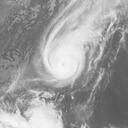cyclone: (37, 25, 91, 89)
